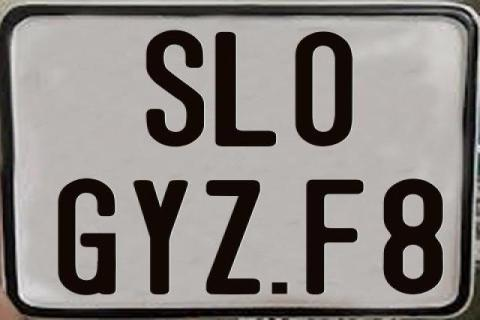0: (382, 178, 446, 298), (294, 29, 358, 144)
F: (306, 178, 366, 296)
G: (58, 178, 116, 298)
L: (212, 32, 276, 146)
S: (143, 29, 205, 149)
Y: (133, 180, 191, 295)
Z: (205, 178, 261, 292)
